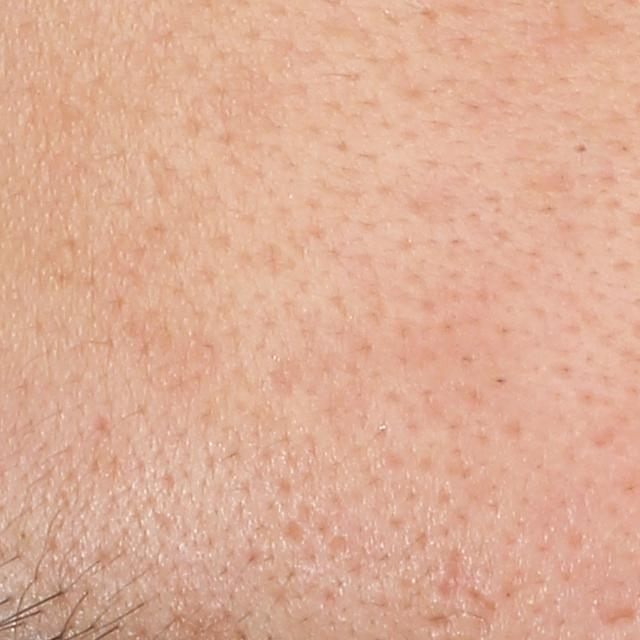atrophic_scar: (433, 545, 501, 615), (266, 345, 311, 399), (597, 606, 636, 628)
comedo: (567, 139, 594, 158)
